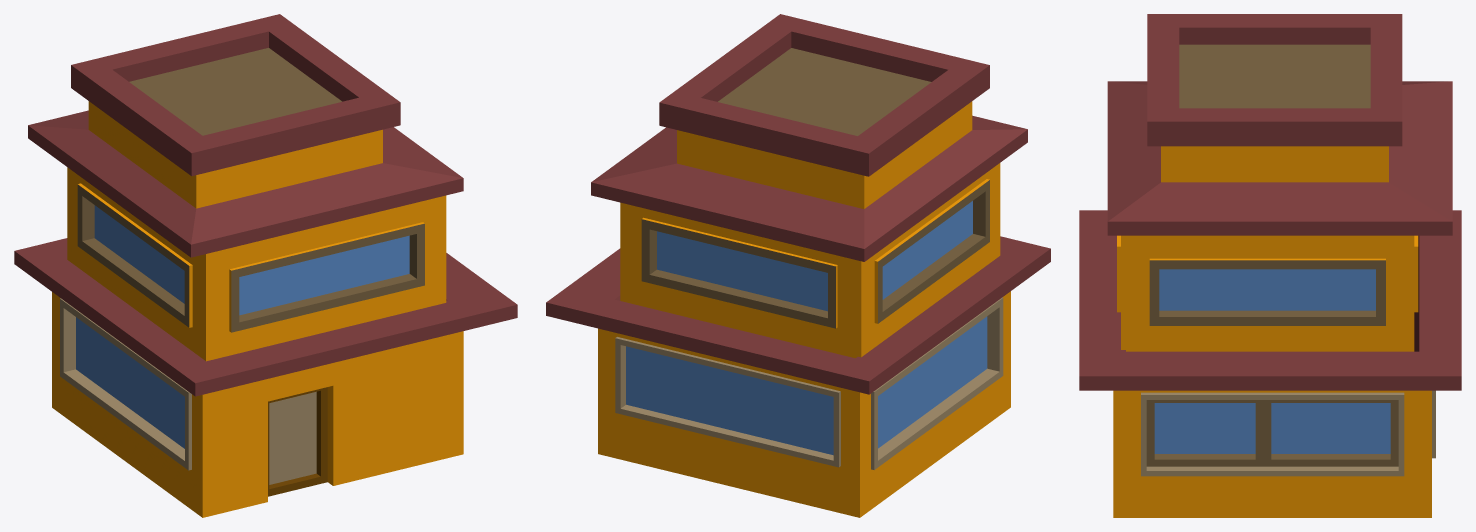
The model's file is House-3.fbx.
3 views of the same model, side by side, from view 1: azimuth 30°, elevation 25°; view 2: azimuth 150°, elevation 25°; view 3: azimuth 270°, elevation 25° (orthographic). The views are drawn at different scales.
Visible parts, largest first — view 1: House-3; view 2: House-3; view 3: House-3.
Part boxes in pixels (box(x1,y1,x2,y2)): House-3: box(14, 14, 517, 517); House-3: box(546, 14, 1050, 517); House-3: box(1079, 14, 1461, 517).
Bounding box in the file's own units: 16.41 × 17.11 × 15.95.
